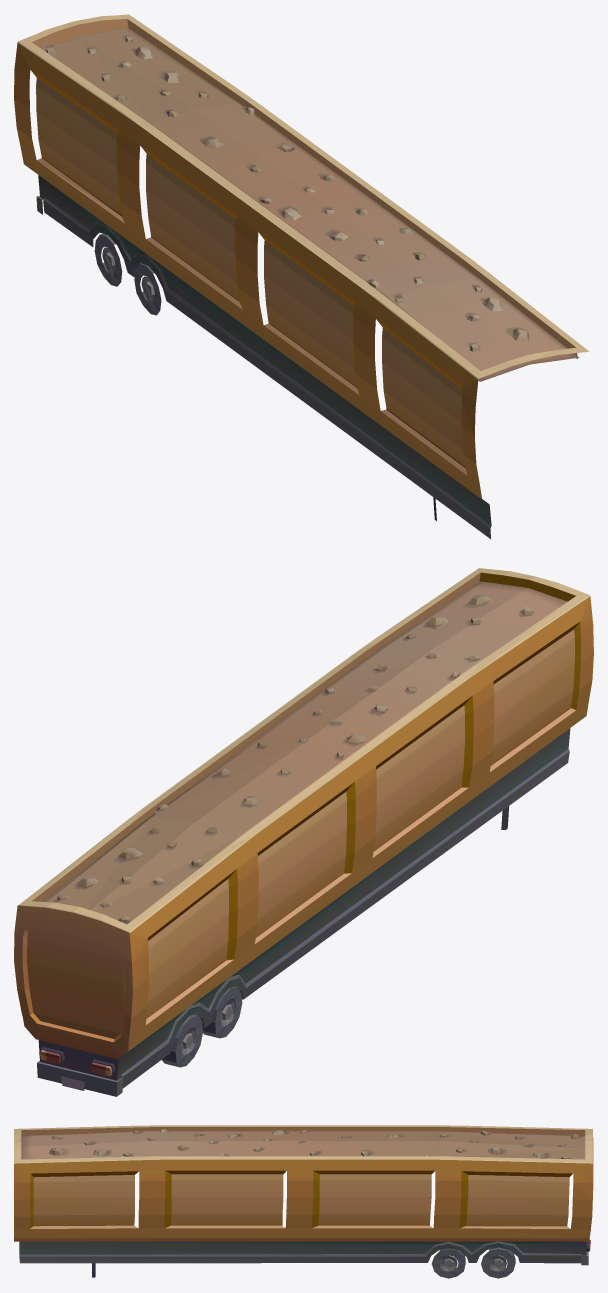
The model's file is city_double8_truckTrailor02.glb.
3 renders of one model, top to bottom at view 1: azimuth 30°, elevation 25°; view 2: azimuth 150°, elevation 25°; view 3: azimuth 270°, elevation 25°, orthographic. The views are drawn at different scales.
Visible parts, largest first — view 1: city_double8_truckTrailor02; view 2: city_double8_truckTrailor02; view 3: city_double8_truckTrailor02.
Boxes of the visible parts, left/top/right/bottom form: city_double8_truckTrailor02: left=14, top=14, right=588, bottom=539; city_double8_truckTrailor02: left=14, top=568, right=593, bottom=1096; city_double8_truckTrailor02: left=14, top=1125, right=593, bottom=1278.
Size of the model in its own units: 1.17 by 1.9 by 7.88.
